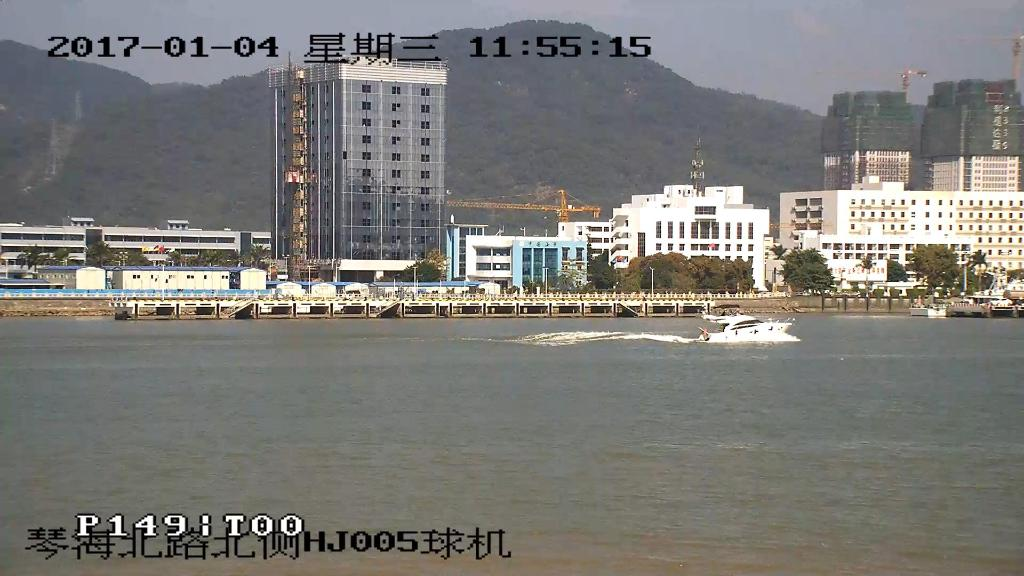PassengerShip: (690, 304, 804, 351)
